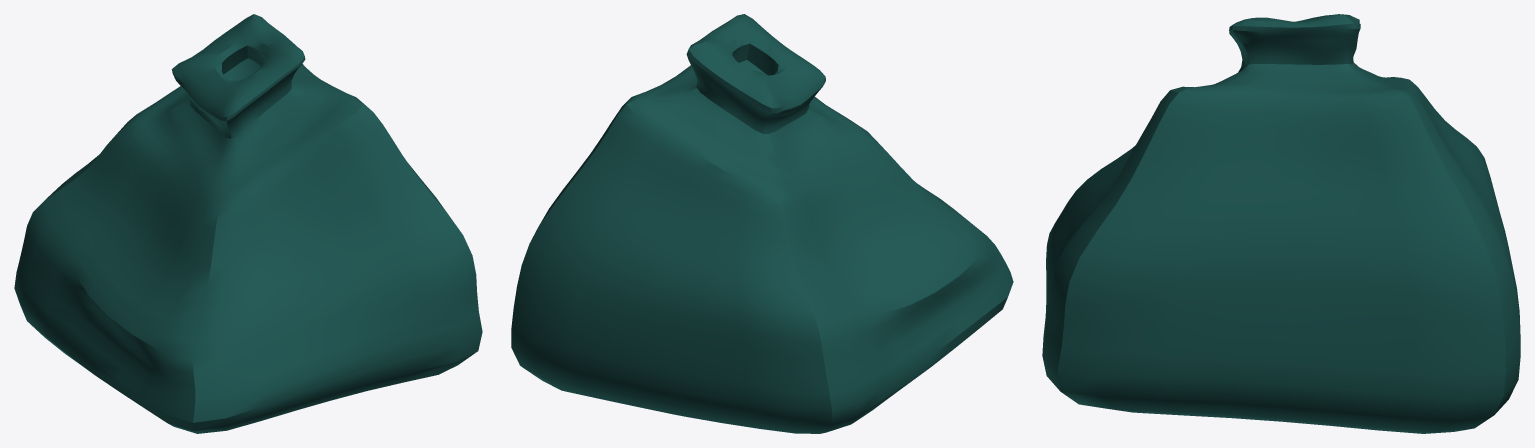
Rendered from TrashBag.fbx.
The picture shows the model from 3 angles, left to right: view 1: azimuth 30°, elevation 25°; view 2: azimuth 150°, elevation 25°; view 3: azimuth 270°, elevation 25°; orthographic projection. The views are drawn at different scales.
Parts seen in each view (by area): view 1: TrashBag; view 2: TrashBag; view 3: TrashBag.
Part boxes in pixels (x1,y1,x2,y2): TrashBag: (14, 14, 482, 433); TrashBag: (511, 14, 1013, 433); TrashBag: (1042, 14, 1520, 433).
Size of the model in its own units: 80.16 by 78.56 by 90.17.
